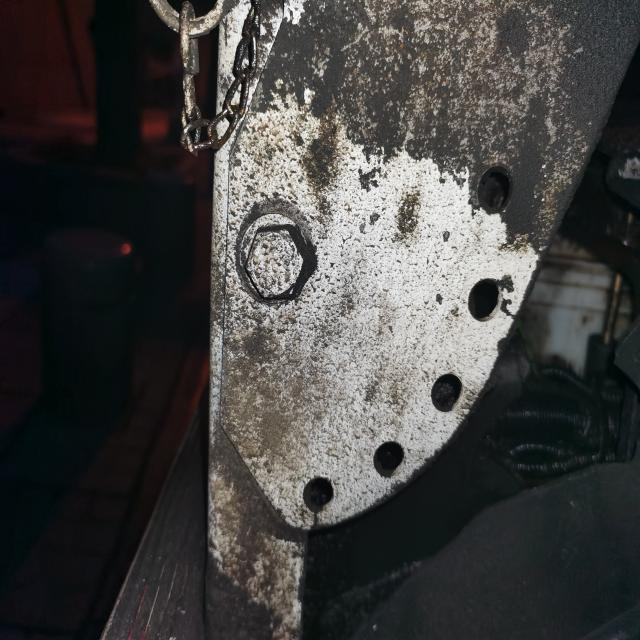bolt head: (242, 219, 308, 305)
